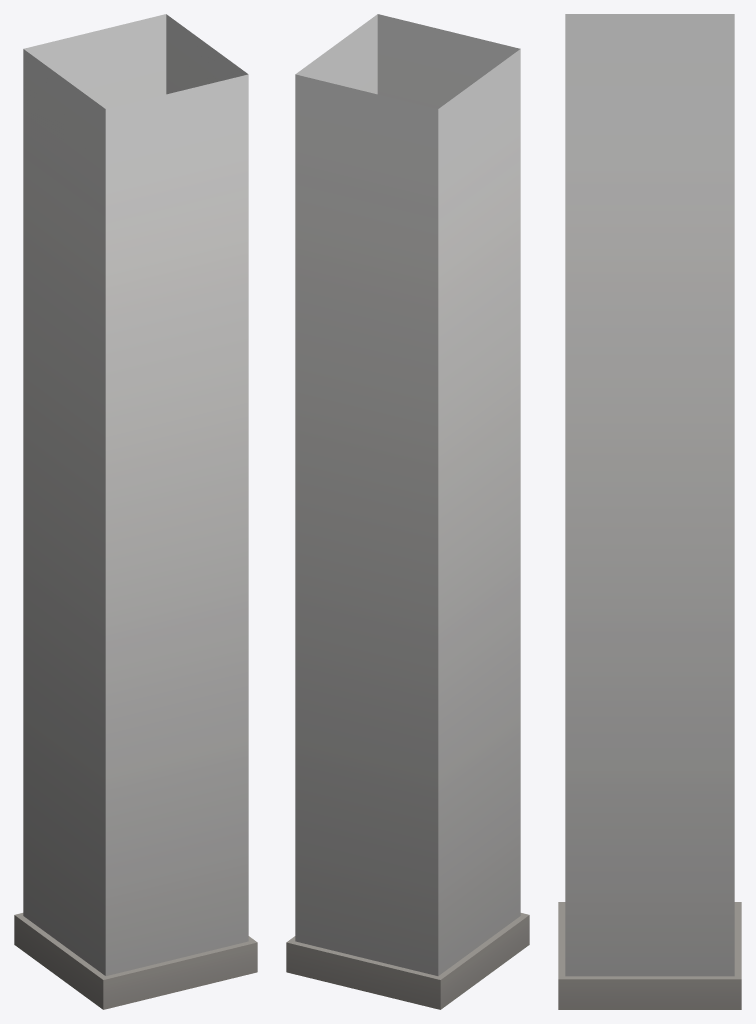
Rendered from Wall_3m_A_Pillar.fbx.
3 renders of one model, left to right at view 1: azimuth 30°, elevation 25°; view 2: azimuth 150°, elevation 25°; view 3: azimuth 270°, elevation 25°, orthographic. The views are drawn at different scales.
Visible parts, largest first — view 1: Wall_3m_A_Pillar; view 2: Wall_3m_A_Pillar; view 3: Wall_3m_A_Pillar.
Part boxes in pixels (<box>): Wall_3m_A_Pillar: <box>14,14,257,1009</box>; Wall_3m_A_Pillar: <box>286,14,529,1009</box>; Wall_3m_A_Pillar: <box>558,14,741,1009</box>.
Size of the model in its own units: 54 by 300 by 54.
